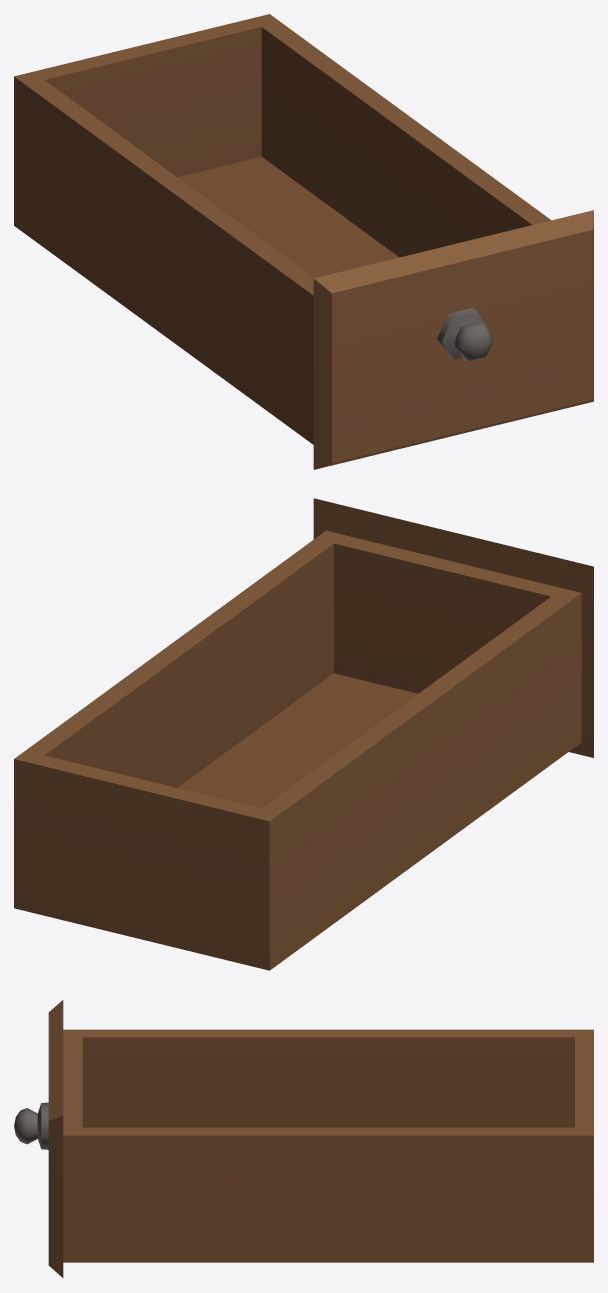
The model's file is Desk_Drawer.fbx.
The picture shows the model from 3 angles, top to bottom: view 1: azimuth 30°, elevation 25°; view 2: azimuth 150°, elevation 25°; view 3: azimuth 270°, elevation 25°; orthographic projection. The views are drawn at different scales.
Visible parts, largest first — view 1: Desk_Drawer; view 2: Desk_Drawer; view 3: Desk_Drawer.
Part boxes in pixels (box(x1,y1,x2,y2)): Desk_Drawer: box(14, 14, 593, 469); Desk_Drawer: box(14, 498, 593, 970); Desk_Drawer: box(14, 1000, 593, 1277).
Bounding box in the file's own units: 28.14 × 18.38 × 59.34.
